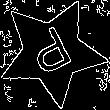P_SE: (24, 21, 80, 83)
